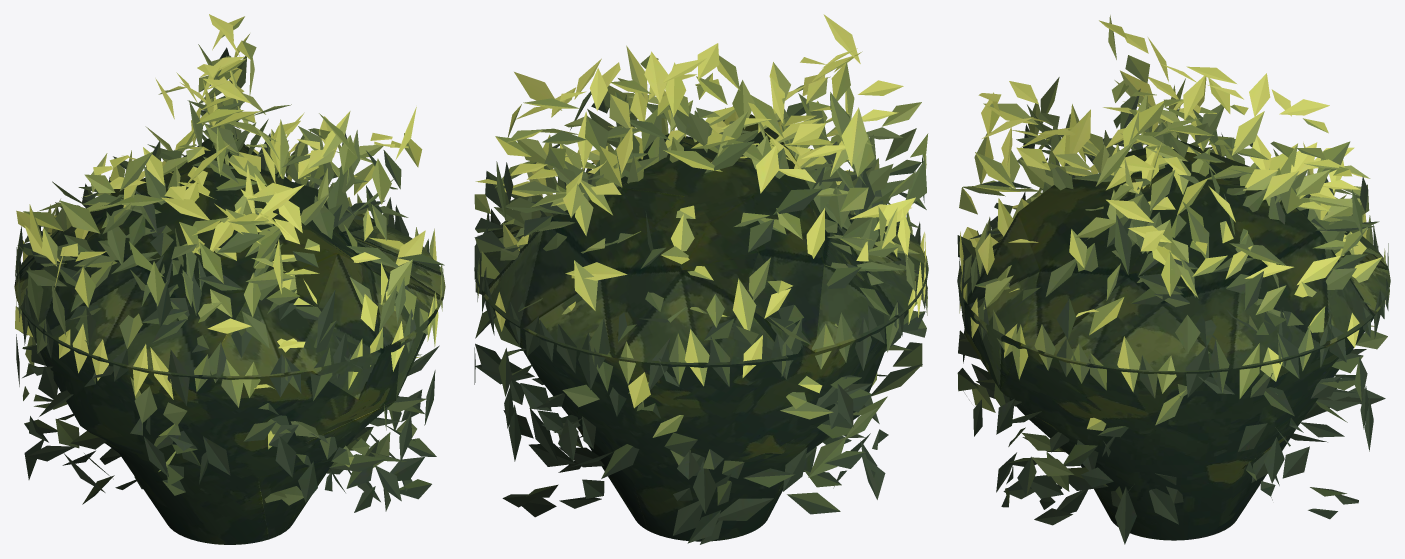
File: shrub_leafy.glb
3 renders of one model, left to right at view 1: azimuth 30°, elevation 25°; view 2: azimuth 150°, elevation 25°; view 3: azimuth 270°, elevation 25°, orthographic. The views are drawn at different scales.
Visible parts, largest first — view 1: body; view 2: body; view 3: body.
Part boxes in pixels (x1=…): body: x1=14, y1=14, x2=445, y2=544; body: x1=474, y1=14, x2=928, y2=544; body: x1=957, y1=15, x2=1390, y2=544.
Bounding box in the file's own units: 1.1 × 1.28 × 1.1.
1 material, 1 textured.
